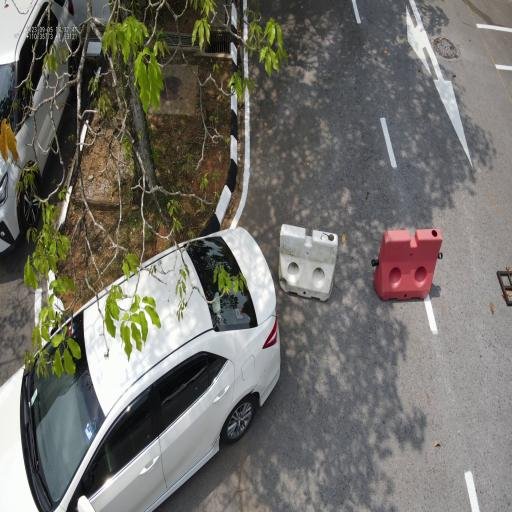Illegal: (0, 224, 283, 512)
